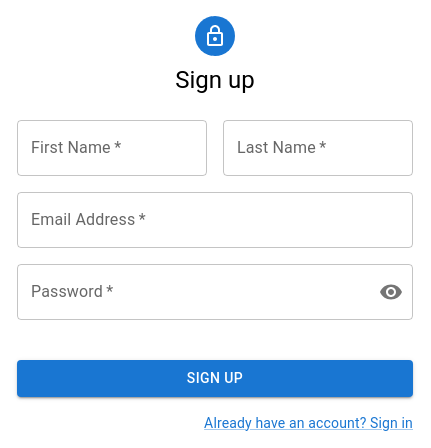
Test: <SignUp /> › When signin link is clicked › Navigates to signin page
Click the link "Already have an account? Sign in" at [309, 422], box [204, 414, 413, 430]
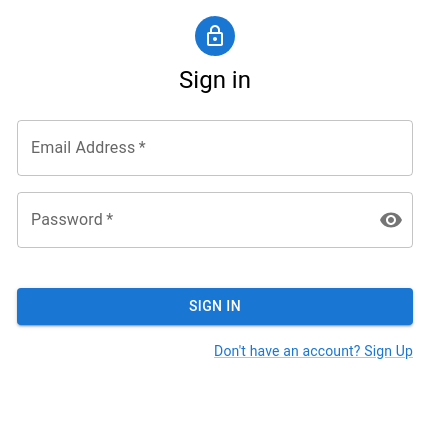
Result: the heading "Sign in" is shown at [179, 64, 251, 96]
